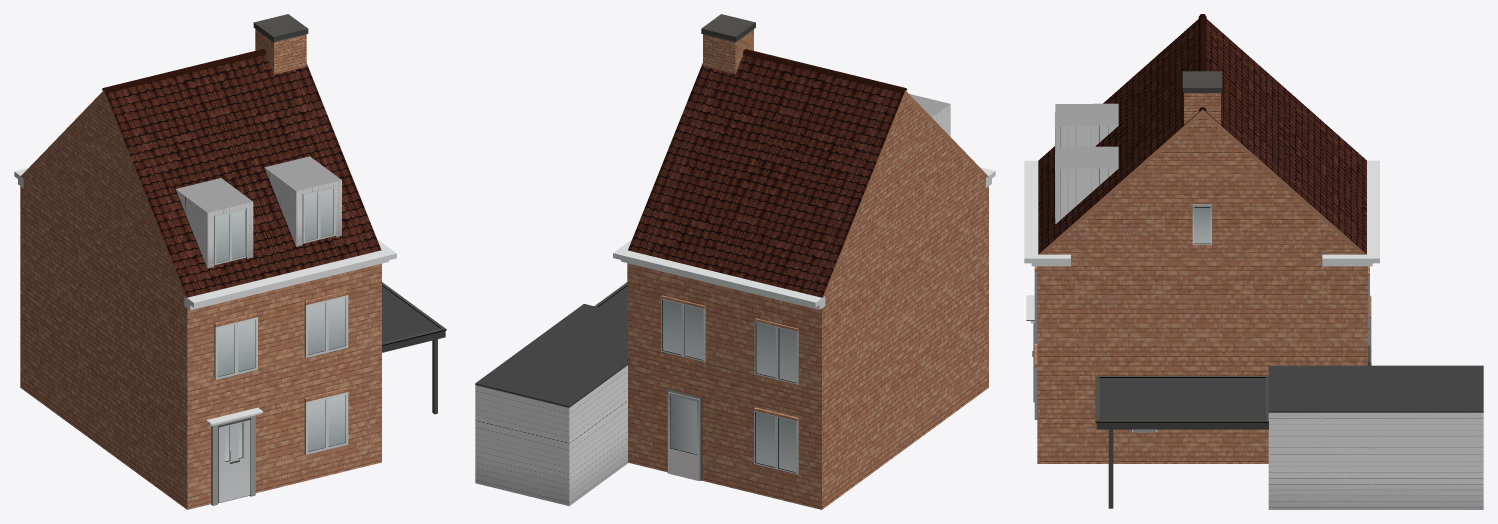
The model's file is Dwershus_14_en_It_Uleboerd_65.fbx.
3 renders of one model, left to right at view 1: azimuth 30°, elevation 25°; view 2: azimuth 150°, elevation 25°; view 3: azimuth 270°, elevation 25°, orthographic.
Visible parts, largest first — view 1: Dwershus_14_en_It_Uleboerd_65; view 2: Dwershus_14_en_It_Uleboerd_65; view 3: Dwershus_14_en_It_Uleboerd_65.
Boxes of the visible parts, left/top/right/bottom form: Dwershus_14_en_It_Uleboerd_65: left=14, top=14, right=446, bottom=509; Dwershus_14_en_It_Uleboerd_65: left=475, top=14, right=995, bottom=509; Dwershus_14_en_It_Uleboerd_65: left=1024, top=14, right=1483, bottom=509.
Size of the model in its own units: 890 by 1122 by 1240.
